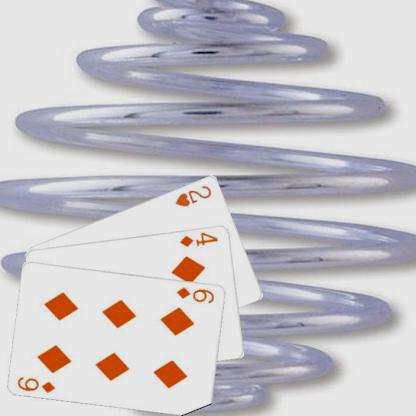2H: (172, 183, 212, 208)
4D: (177, 229, 220, 248)
6D: (174, 284, 216, 304), (15, 374, 57, 394)
